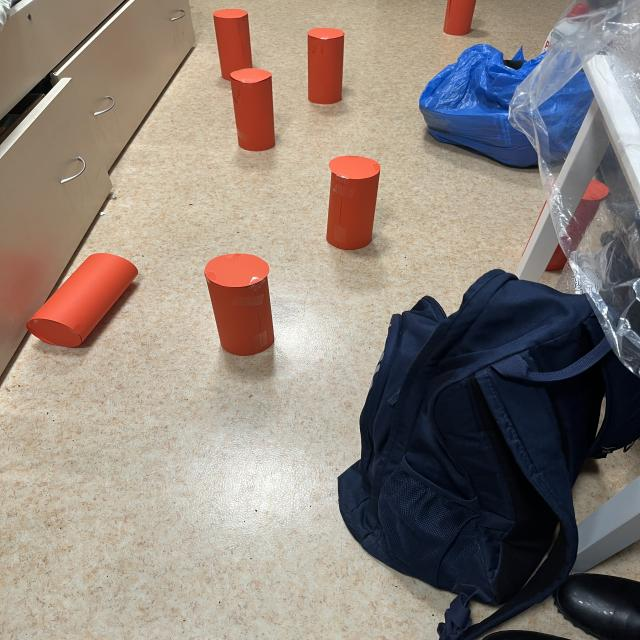przeszkoda: (27, 253, 138, 347), (213, 9, 275, 151), (204, 253, 274, 356), (326, 156, 380, 250), (308, 28, 344, 104), (444, 0, 475, 35)
